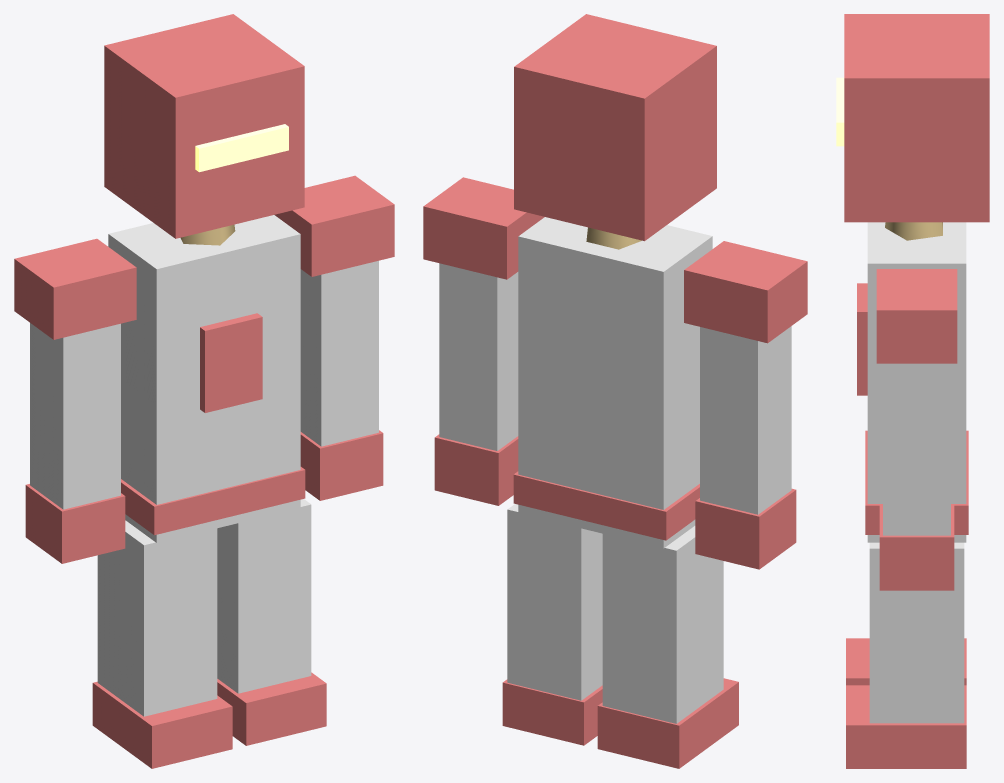
File: support.glb
The picture shows the model from 3 angles, left to right: view 1: azimuth 30°, elevation 25°; view 2: azimuth 150°, elevation 25°; view 3: azimuth 270°, elevation 25°; orthographic projection.
Size of the model in its own units: 1.5 by 2.8 by 0.5733.
